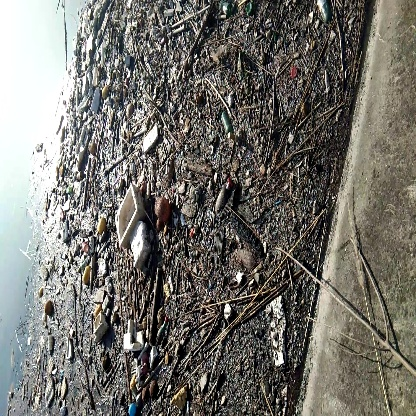plastic-garbage: (107, 185, 156, 263)
